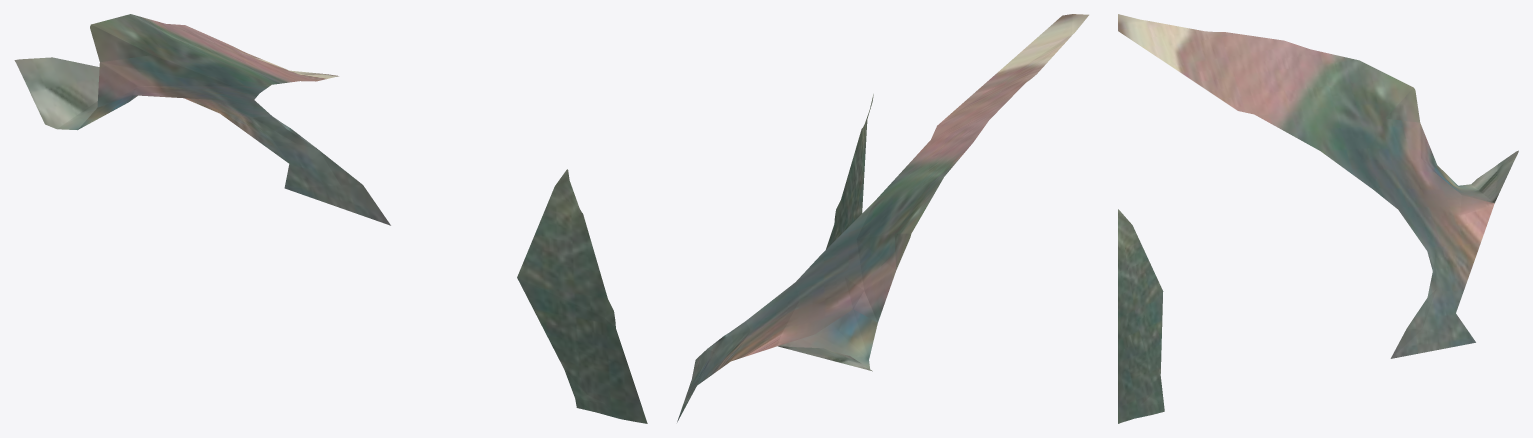
Rendered from Tile__005__003_L20_000000.glb.
3 views of the same model, side by side, from view 1: azimuth 30°, elevation 25°; view 2: azimuth 150°, elevation 25°; view 3: azimuth 270°, elevation 25° (orthographic). The views are drawn at different scales.
Visible parts, largest first — view 1: root; view 2: root; view 3: root.
Part boxes in pixels (x1,y1,x2,y2): root: (14,14,647,423); root: (677,14,1088,422); root: (1118,14,1518,423).
Size of the model in its own units: 22.93 by 27.76 by 34.07.
1 material, 1 textured.
